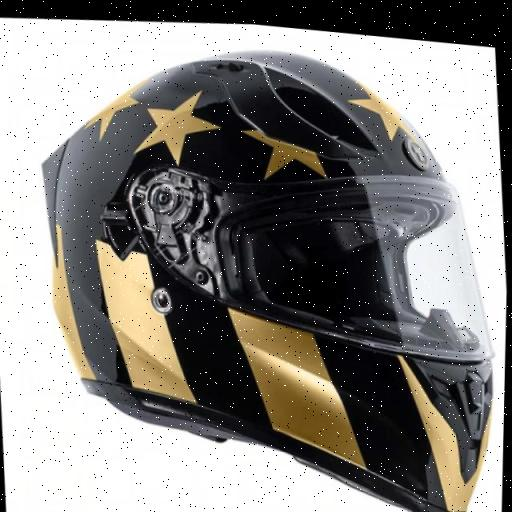Helmet: (14, 1, 511, 512)
